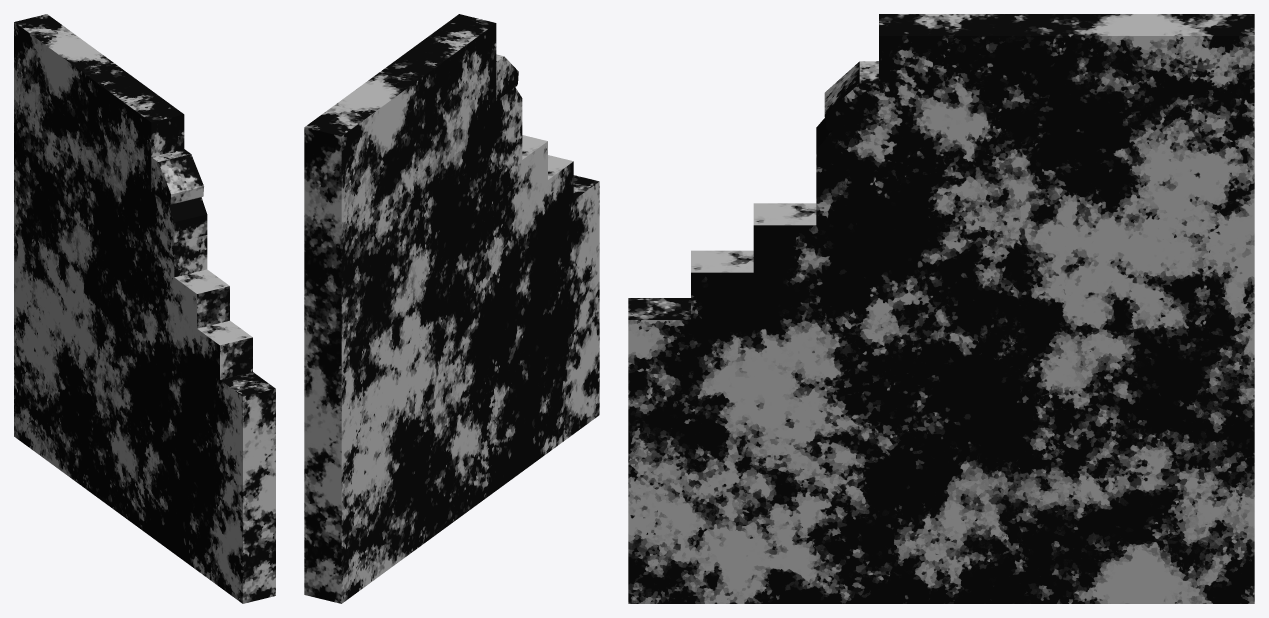
Rendered from SM_Wall_Ruins_02.fbx.
The picture shows the model from 3 angles, left to right: view 1: azimuth 30°, elevation 25°; view 2: azimuth 150°, elevation 25°; view 3: azimuth 270°, elevation 25°; orthographic projection. The views are drawn at different scales.
Parts seen in each view (by area): view 1: SM_Wall_Ruins_02_LOD0; view 2: SM_Wall_Ruins_02_LOD0; view 3: SM_Wall_Ruins_02_LOD0.
Part boxes in pixels (x1,y1,x2,y2): SM_Wall_Ruins_02_LOD0: (14,14,275,603); SM_Wall_Ruins_02_LOD0: (304,14,599,603); SM_Wall_Ruins_02_LOD0: (628,14,1254,603).
Bounding box in the file's own units: 50 × 600 × 600.
1 material, 1 textured.
